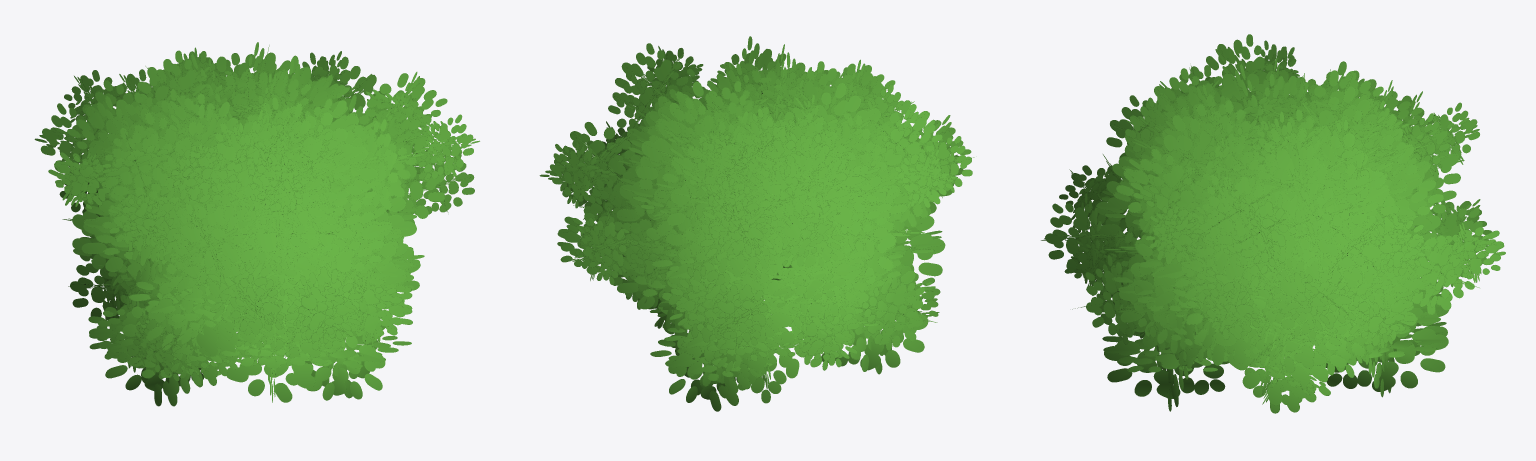
The model's file is Bush_Common.gltf.
The picture shows the model from 3 angles, left to right: view 1: azimuth 30°, elevation 25°; view 2: azimuth 150°, elevation 25°; view 3: azimuth 270°, elevation 25°; orthographic projection. The views are drawn at different scales.
Visible parts, largest first — view 1: Bush_Common; view 2: Bush_Common; view 3: Bush_Common.
Part boxes in pixels (x1,y1,x2,y2): Bush_Common: (34, 42, 479, 406); Bush_Common: (539, 36, 974, 411); Bush_Common: (1041, 34, 1505, 413).
Bounding box in the file's own units: 1.91 × 1.58 × 1.97.
1 material, 1 textured.
